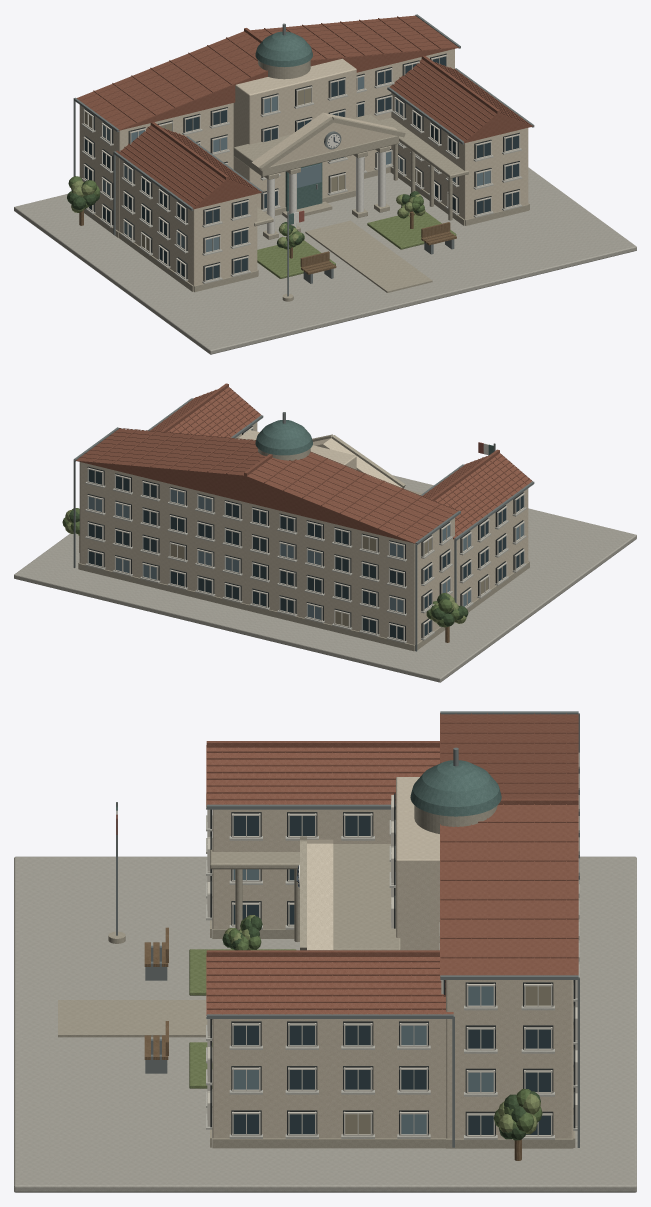
File: EXP_UNIVERSITY.glb
3 views of the same model, one above another, from view 1: azimuth 30°, elevation 25°; view 2: azimuth 150°, elevation 25°; view 3: azimuth 270°, elevation 25° (orthographic). The views are drawn at different scales.
Visible parts, largest first — view 1: EXP_UNIVERSITY_Visual; view 2: EXP_UNIVERSITY_Visual; view 3: EXP_UNIVERSITY_Visual.
Part boxes in pixels (x1,y1,x2,y2): EXP_UNIVERSITY_Visual: (14, 14, 636, 354); EXP_UNIVERSITY_Visual: (14, 383, 636, 682); EXP_UNIVERSITY_Visual: (14, 711, 636, 1192).
Size of what is drawn, in the model's own units: 9.92 by 3.92 by 7.92.
Materials: 22 (16 with a texture image).
